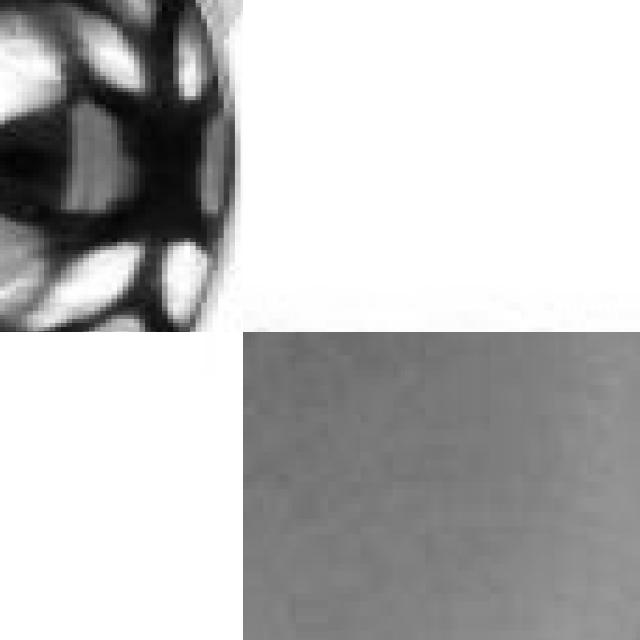spoons: (0, 0, 243, 332)
